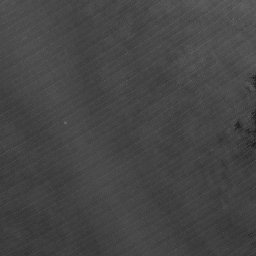Target: (61, 119, 68, 126)
